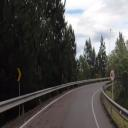speed_limit_40: (110, 69, 116, 83)
